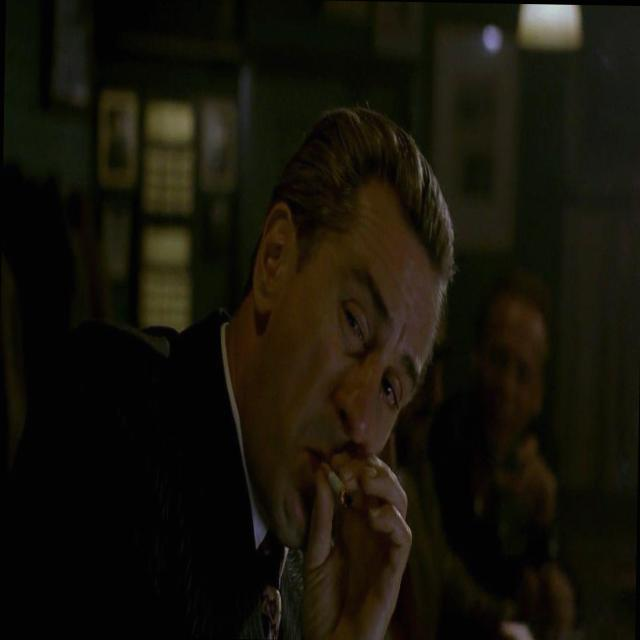cigarette: (302, 448, 358, 531)
